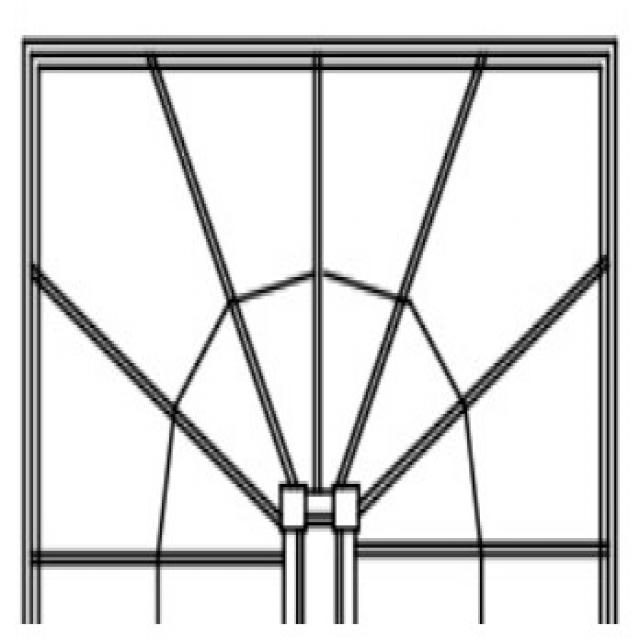stair: (14, 16, 620, 630)
